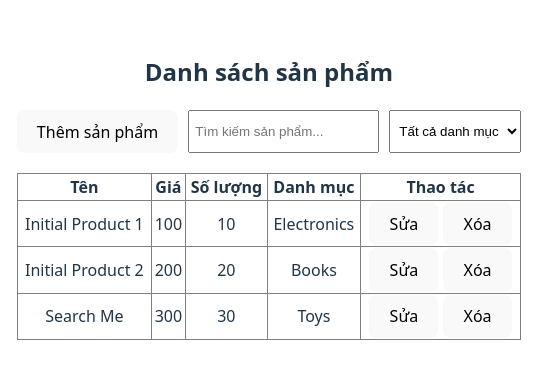
Test: Product E2E Automation Testing › should allow a user to update a product
The image size is (538, 378).
Click the button "Sửa" in the row of "Initial Product 1" at (404, 224), box [369, 202, 438, 245]
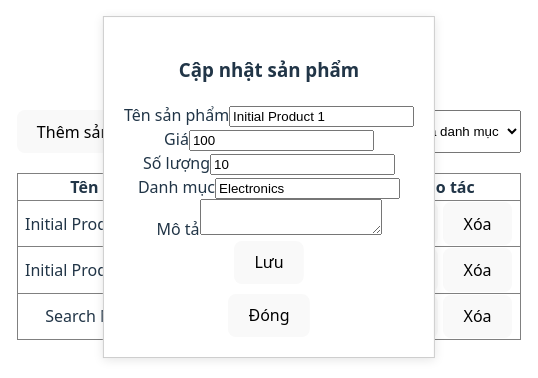
Replace the text in the field with id "name" with "Updated Product 1" at (322, 117), box [229, 106, 414, 127]
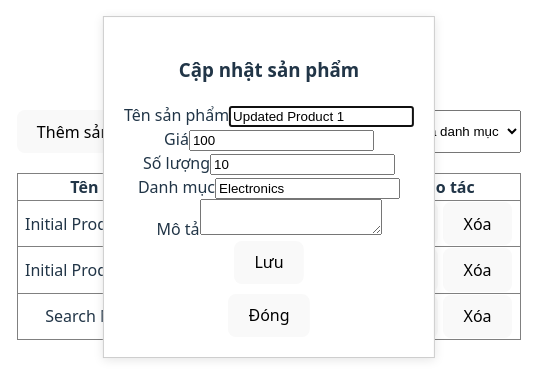
Replace the text in the number field labelled "Giá" with "150" at (282, 141), box [189, 130, 374, 151]
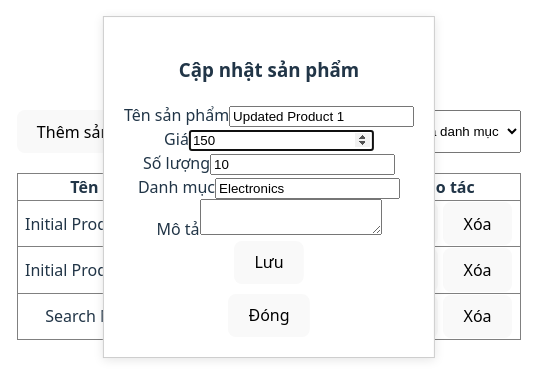
Click the submit button at (269, 263), box [234, 241, 303, 284]
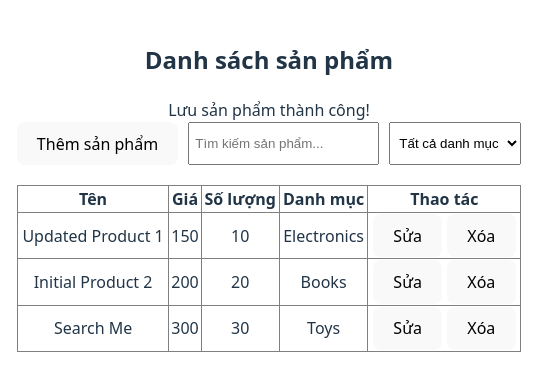
Now the cell "Updated Product 1" is shown, box [17, 213, 169, 259]
